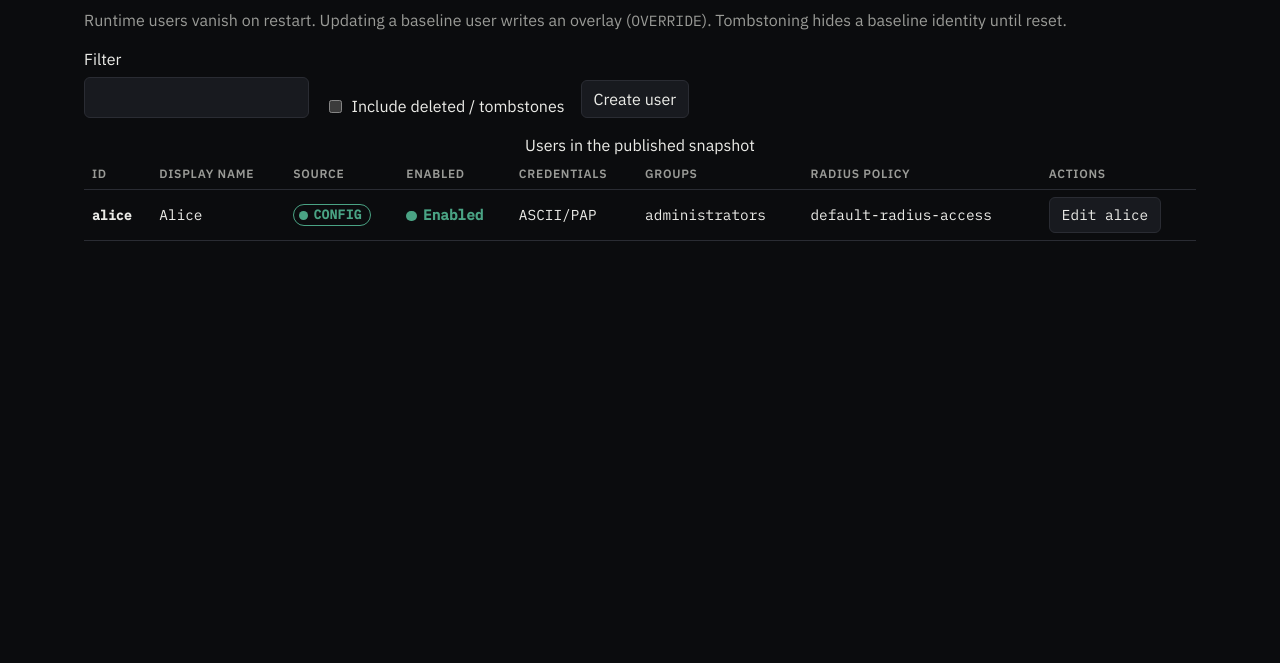
Test case: UsersPage › names the user id in the tombstone confirm and does not claim a NAS kick
This screenshot has width=1280, height=663.
Click the button "Edit alice": (1105, 215) [1049, 198, 1161, 233]
(page scrolled)
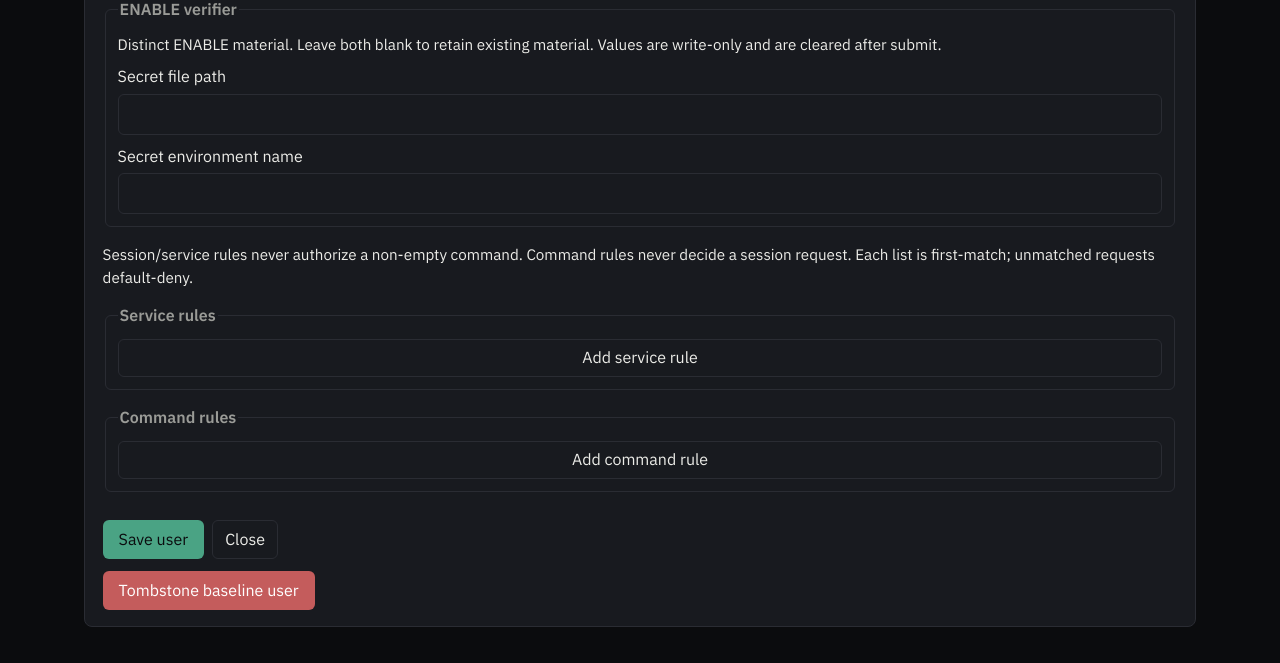
Click the button "Tombstone baseline user": (209, 591) [103, 571, 315, 610]
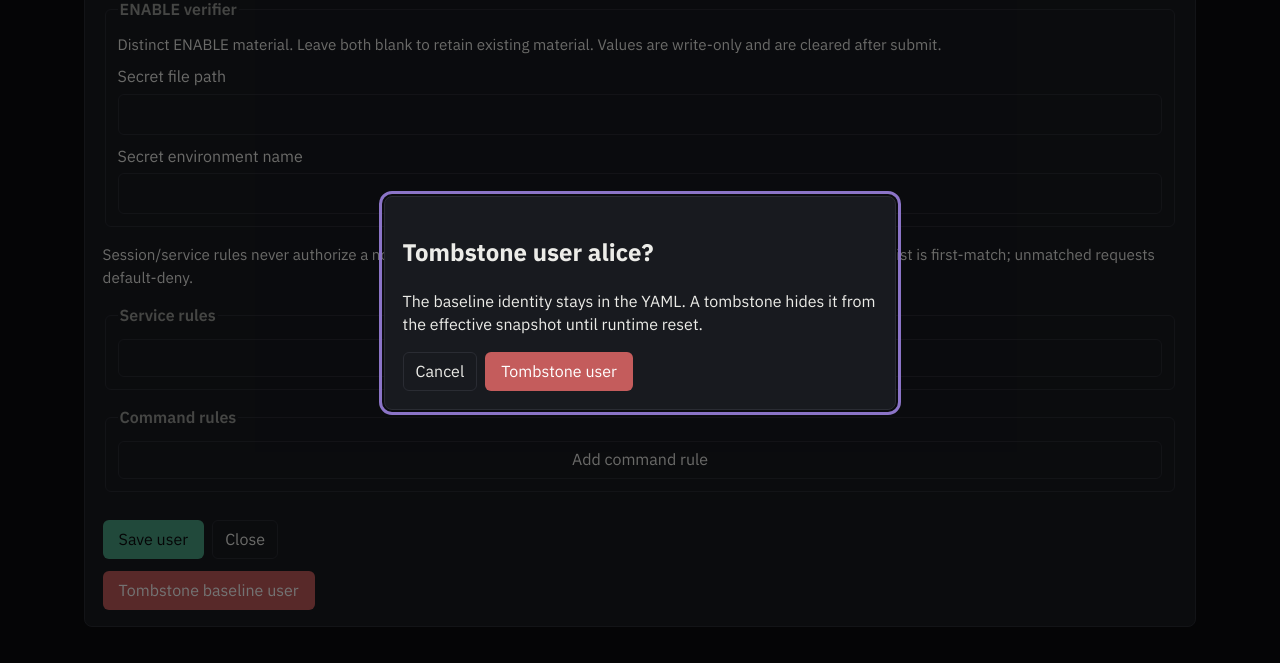
Check: the dialog "Tombstone user alice?" shows "tombstone hides it from the effective snapshot", box [403, 290, 875, 334]
Check: the button "Cancel" is shown, box [403, 352, 477, 391]
Check: the button "Tombstone user" is shown, box [485, 352, 633, 391]
